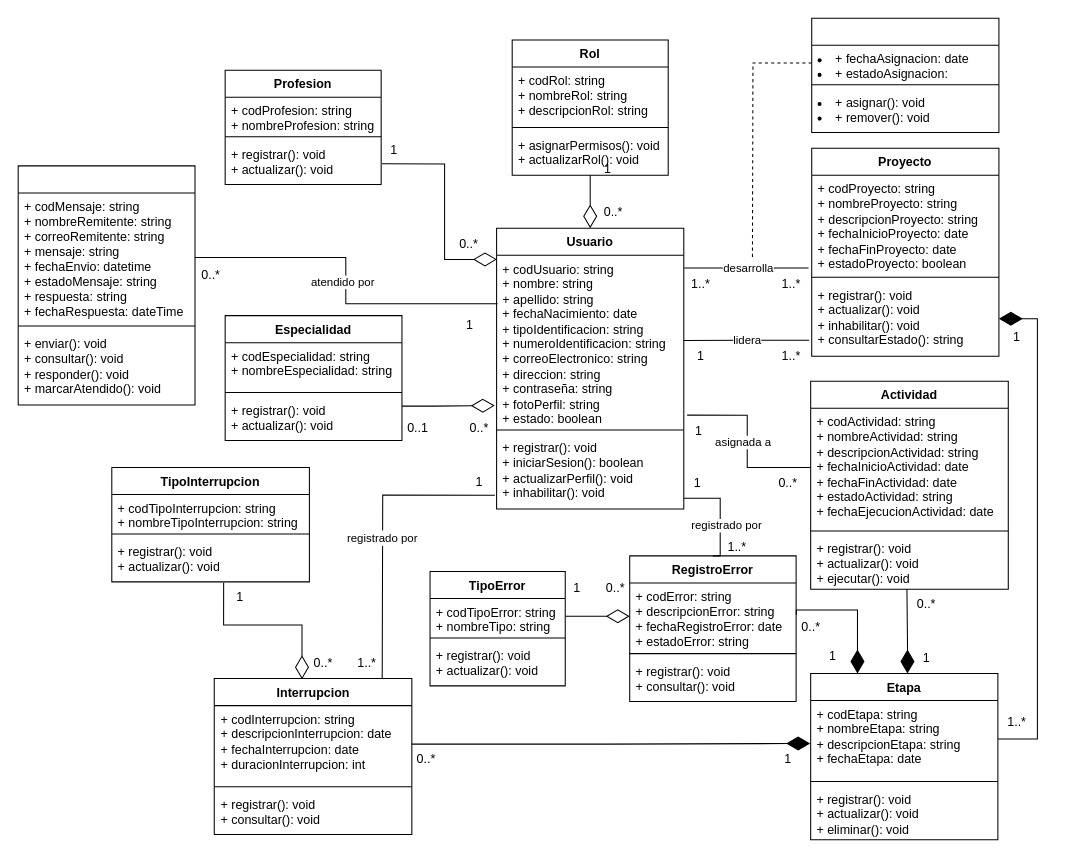
The diagram is 1078 pixels wide and 861 high, and some of its shapes have lost their labels. Each missing label, with the box of its shape:
Asignacion_Proyecto: (811, 17, 999, 133)
MensajeContacto: (17, 165, 195, 405)
